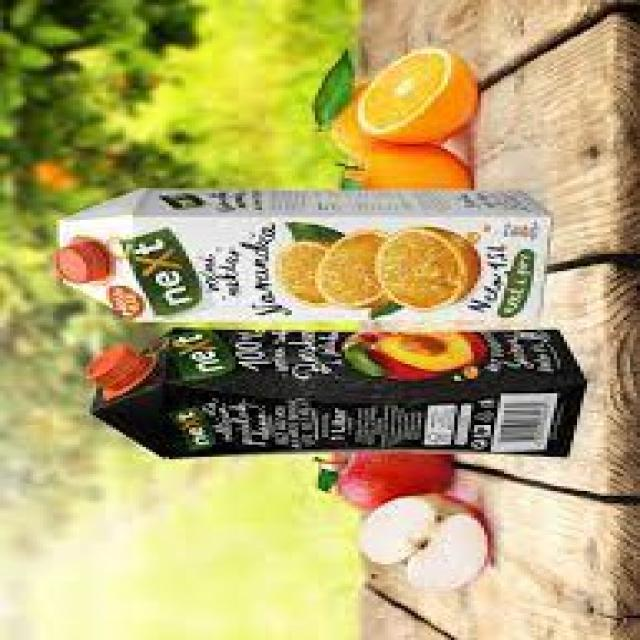non_white_jug: (51, 186, 551, 326), (84, 326, 590, 462)
